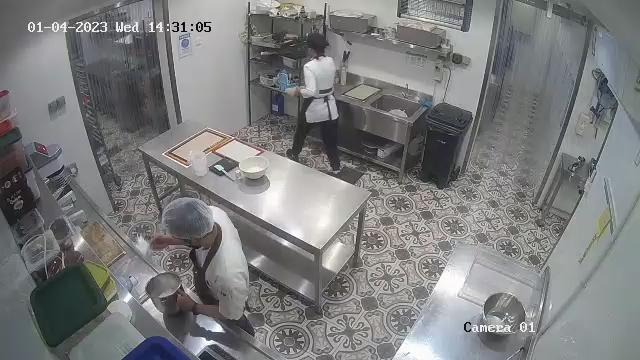apron: (191, 226, 251, 335), (304, 86, 337, 108)
